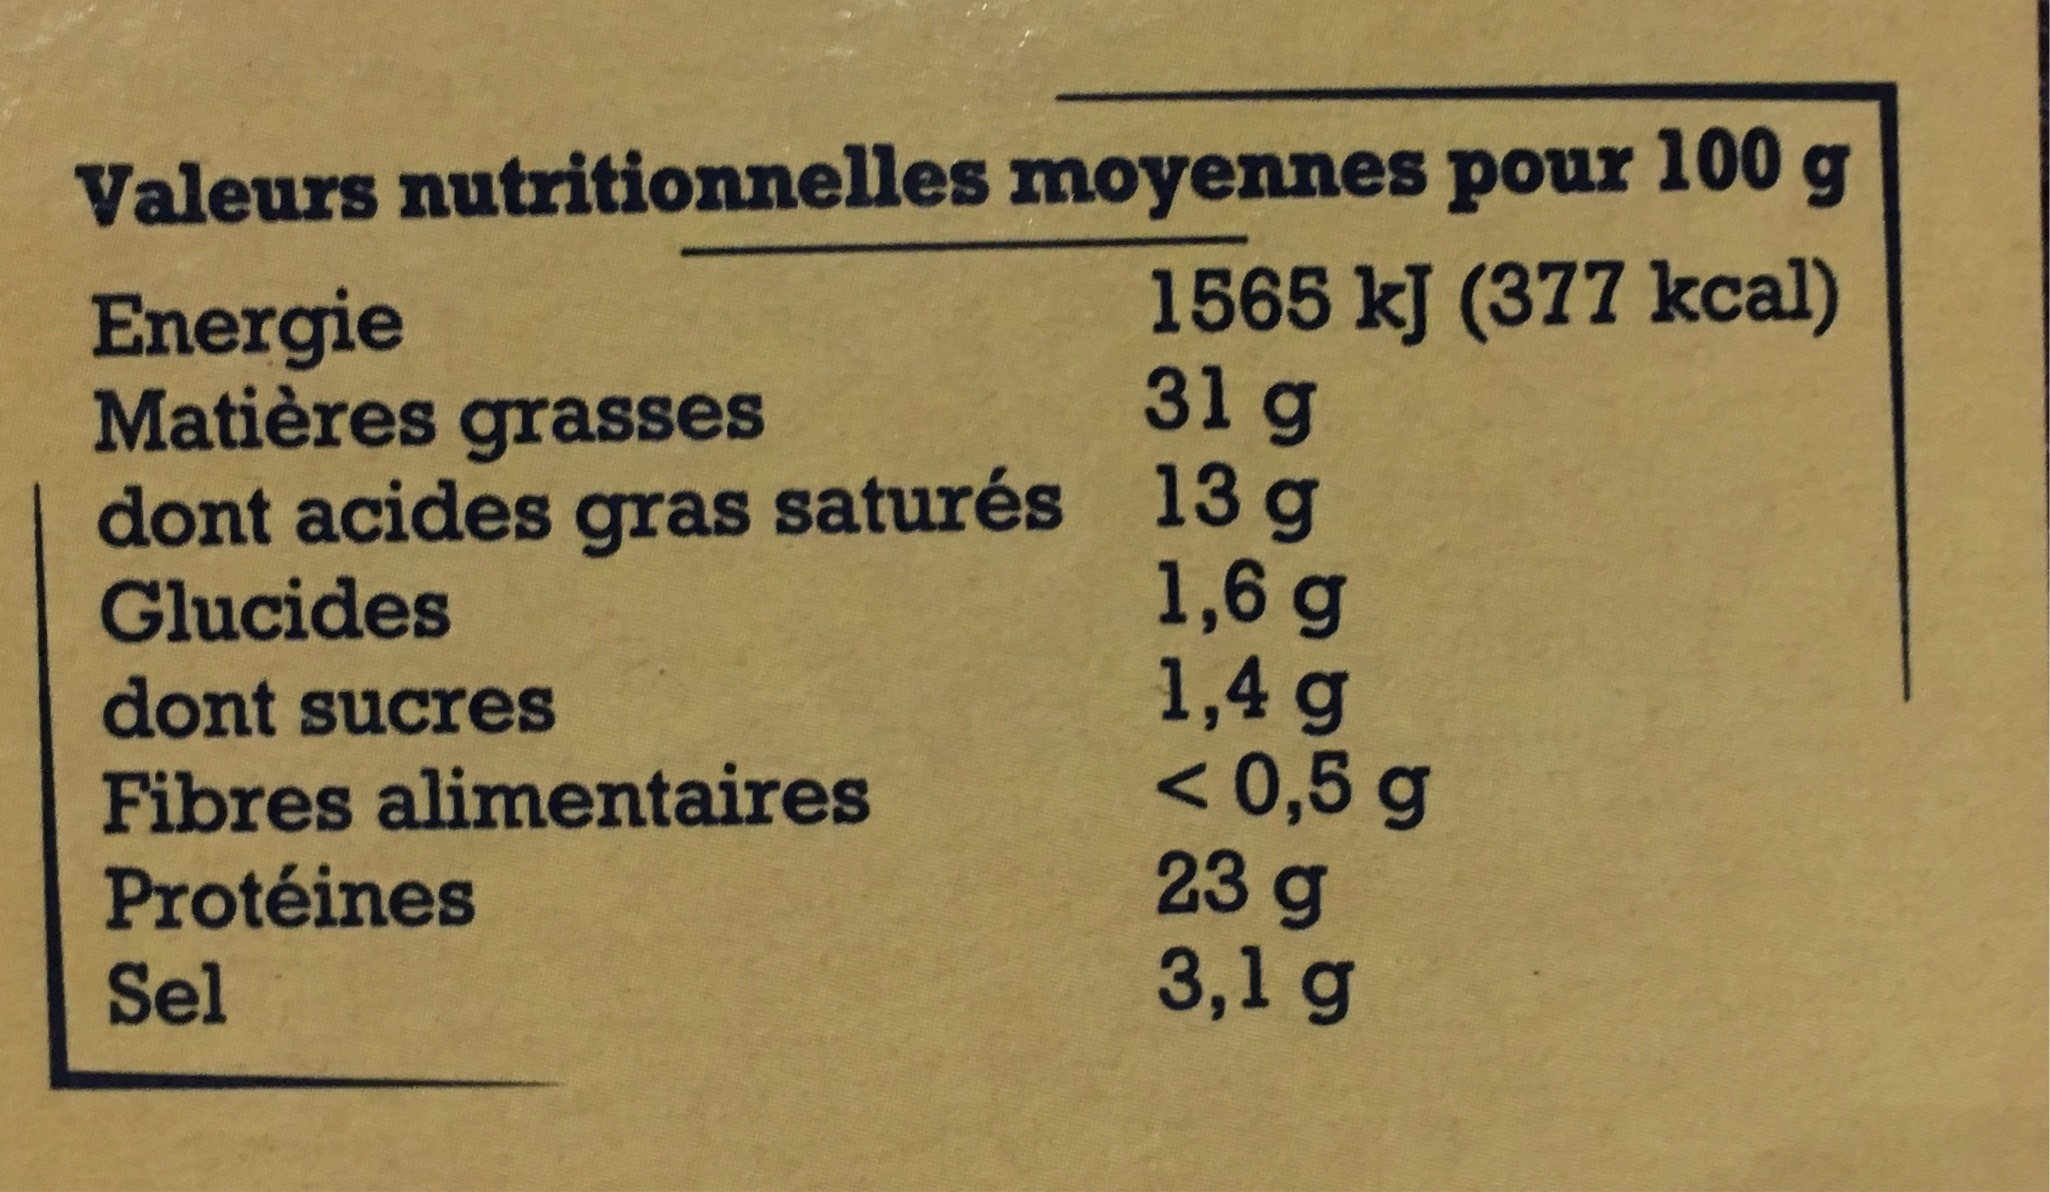column: (88, 267, 1071, 1034), (1136, 257, 1834, 1034)
table: (61, 88, 1880, 1074)
